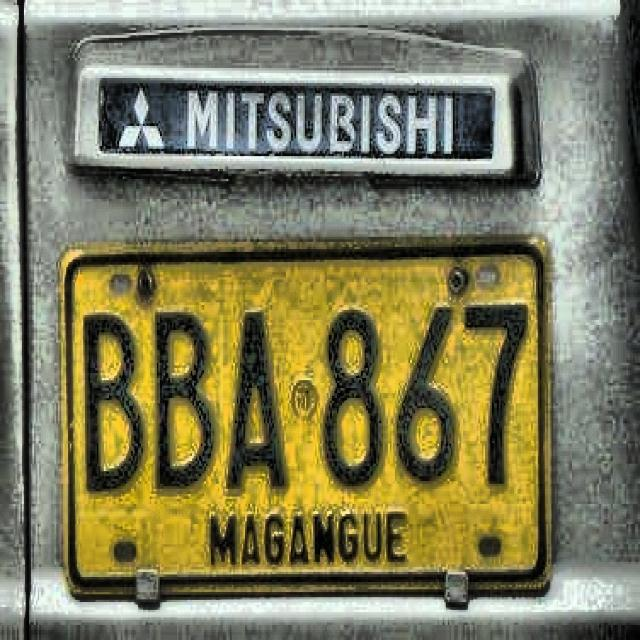plate: (61, 237, 550, 599)
